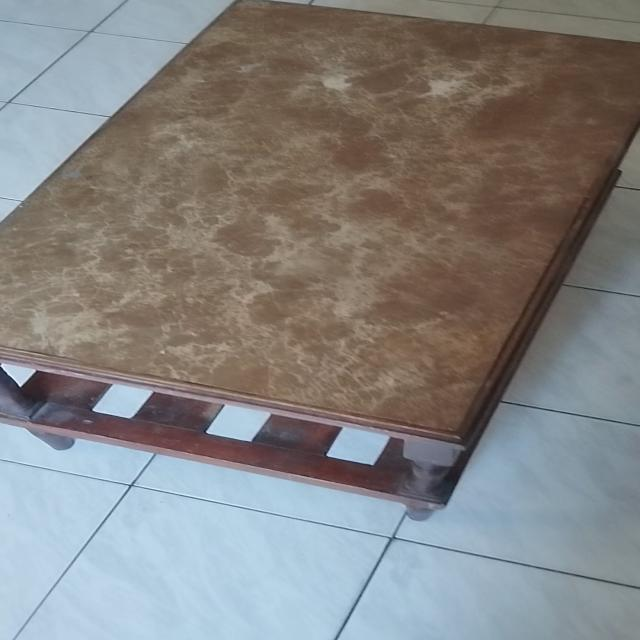table: (0, 0, 640, 525)
